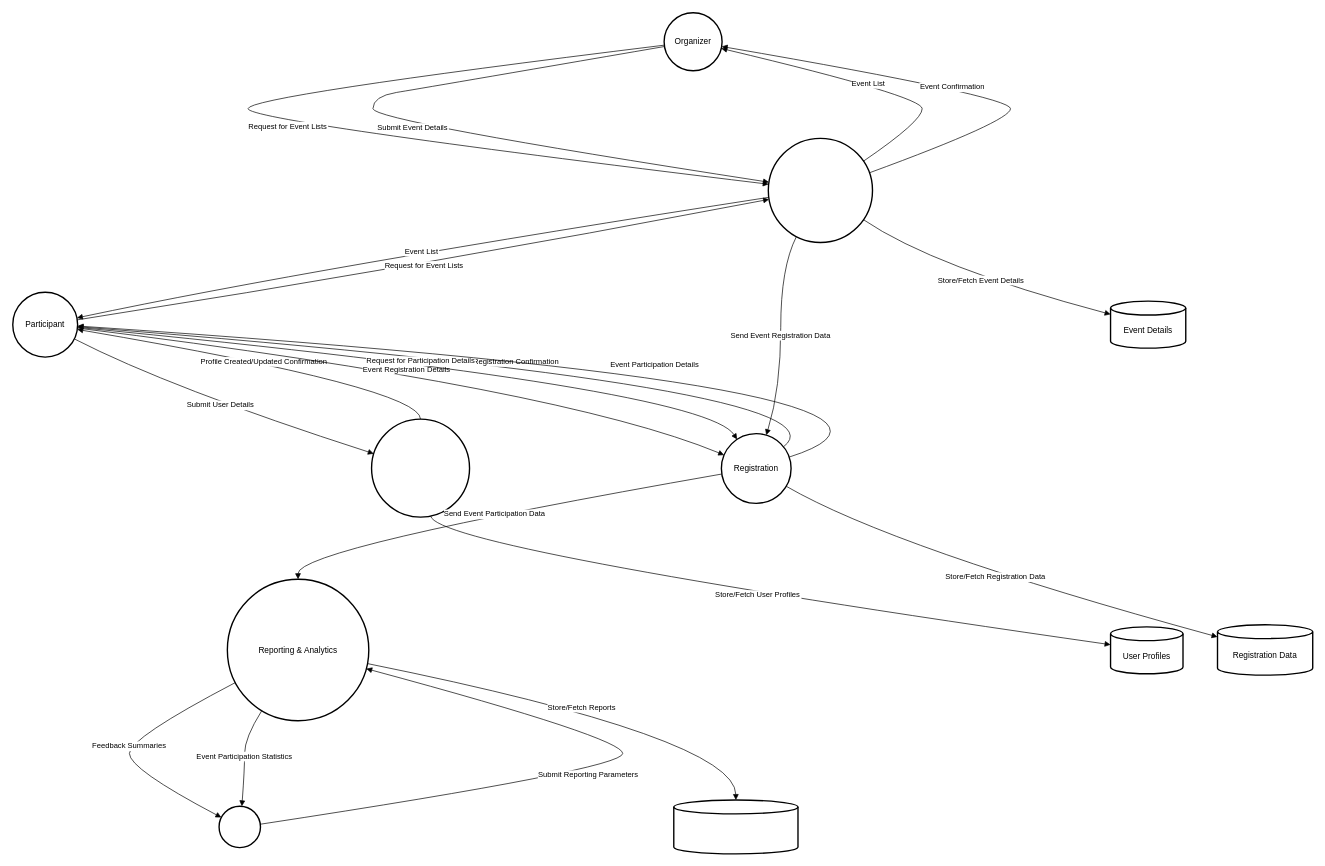
This 1325x866 diagram has some shape labels left out. The box of each missing label's shape, as (x1, y1, x2, y2) in pixels:
Admin: (218, 805, 261, 848)
Event Management: (767, 137, 873, 243)
Reports/Analytics Data: (673, 799, 798, 854)
User Management: (371, 418, 470, 518)
